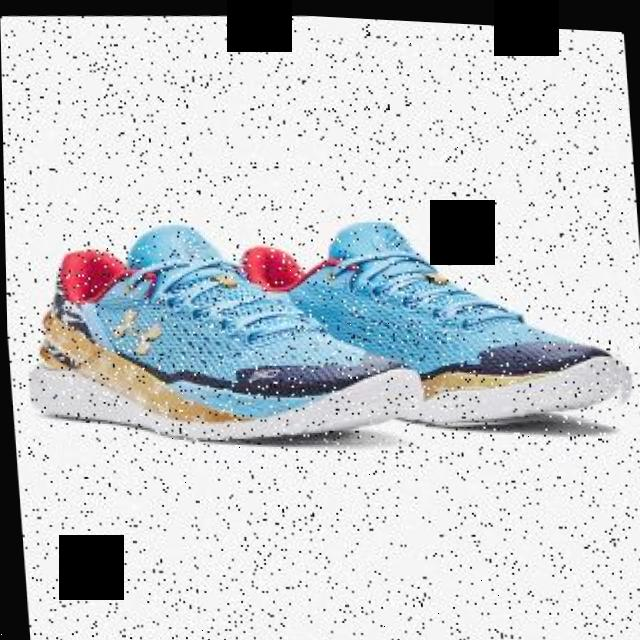shoe: (16, 203, 437, 461), (218, 199, 634, 441)
